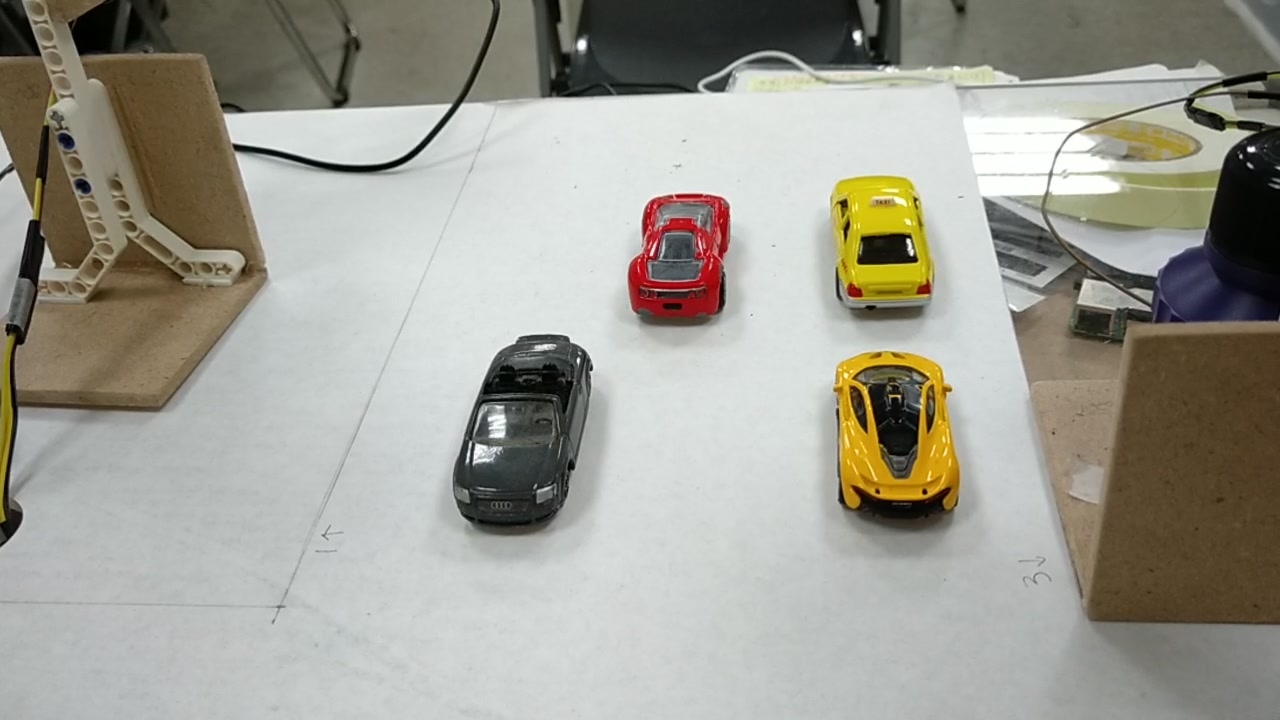car: (451, 335, 592, 532), (830, 354, 972, 520), (832, 170, 940, 310), (630, 194, 738, 318)
